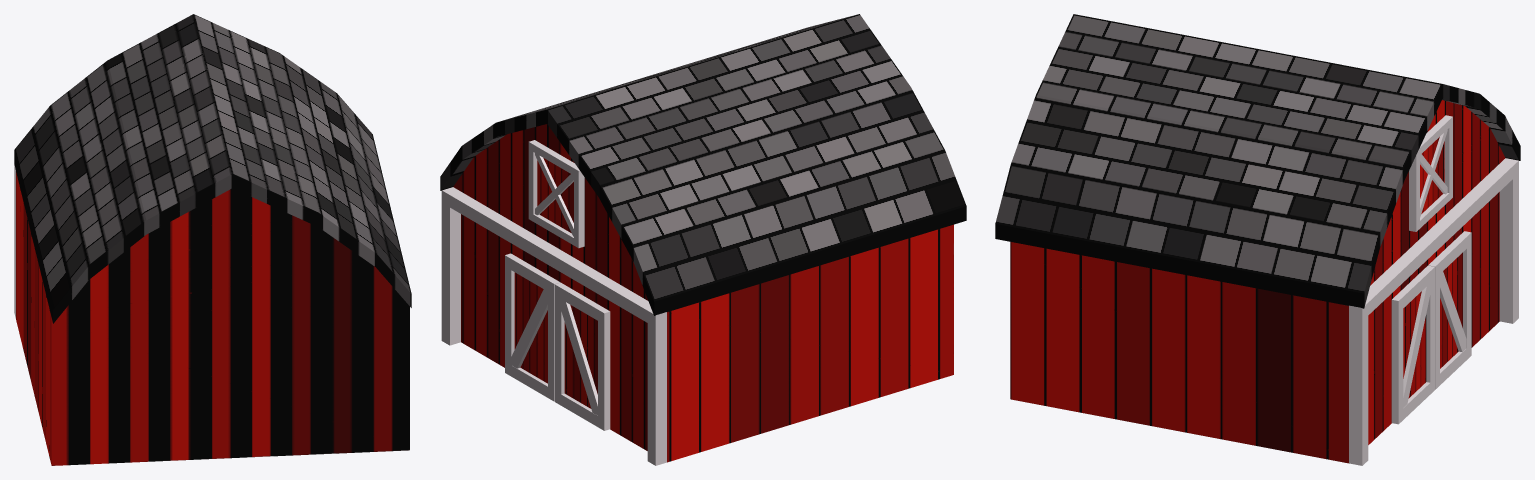
Rendered from farm.glb.
The picture shows the model from 3 angles, left to right: view 1: azimuth 30°, elevation 25°; view 2: azimuth 150°, elevation 25°; view 3: azimuth 270°, elevation 25°; orthographic projection. The views are drawn at different scales.
Parts seen in each view (by area): view 1: Granja.004; view 2: Granja.004; view 3: Granja.004.
Part boxes in pixels (x1,y1,x2,y2): Granja.004: [14, 14, 411, 465]; Granja.004: [440, 14, 966, 465]; Granja.004: [995, 14, 1520, 465].
Size of the model in its own units: 14.46 by 9.58 by 14.77.
6 materials, 4 textured.
